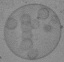small: (39, 9, 49, 19), (6, 20, 17, 29), (21, 40, 32, 49), (21, 14, 30, 24), (29, 50, 38, 59), (22, 22, 31, 31), (23, 32, 33, 39), (44, 24, 54, 31), (50, 16, 57, 26), (31, 20, 39, 28)
